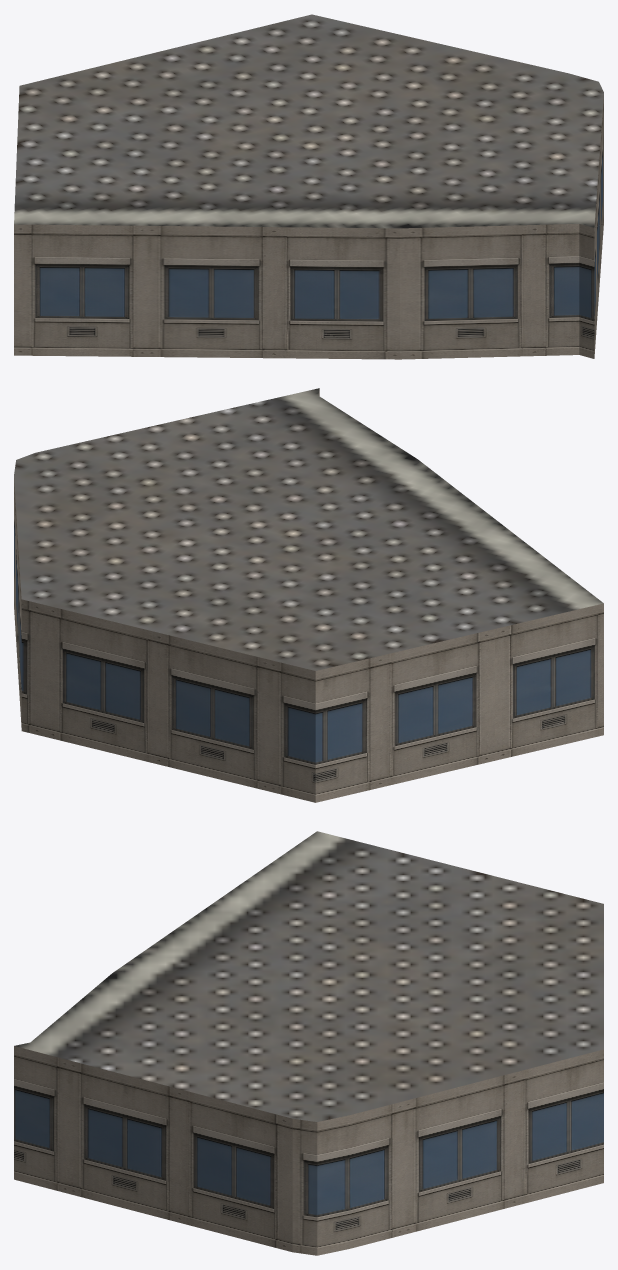
Rendered from building_light_a_39.glb.
3 renders of one model, top to bottom at view 1: azimuth 30°, elevation 25°; view 2: azimuth 150°, elevation 25°; view 3: azimuth 270°, elevation 25°, orthographic.
Parts seen in each view (by area): view 1: buildings/saxarba/building_light/building_light_a_39; view 2: buildings/saxarba/building_light/building_light_a_39; view 3: buildings/saxarba/building_light/building_light_a_39.
Boxes of the visible parts, x1,y1,x2,y2 form: buildings/saxarba/building_light/building_light_a_39: (14,14,603,359); buildings/saxarba/building_light/building_light_a_39: (14,388,603,802); buildings/saxarba/building_light/building_light_a_39: (14,831,603,1255).
Size of the model in its own units: 84 by 18 by 72.
